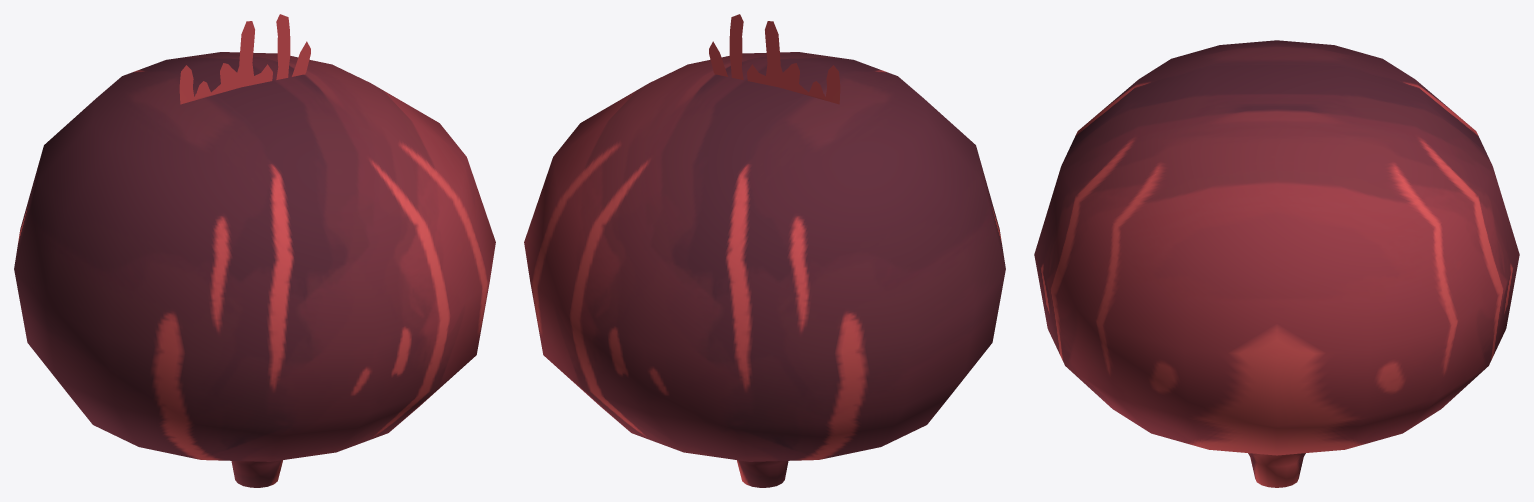
File: Bawang_Full.fbx
3 views of the same model, side by side, from view 1: azimuth 30°, elevation 25°; view 2: azimuth 150°, elevation 25°; view 3: azimuth 270°, elevation 25° (orthographic).
Visible parts, largest first — view 1: Plane.010; view 2: Plane.010; view 3: Plane.010.
Boxes of the visible parts, x1,y1,x2,y2 form: Plane.010: [14, 14, 495, 487]; Plane.010: [524, 14, 1005, 487]; Plane.010: [1034, 40, 1519, 487].
Size of the model in its own units: 15.91 by 15.91 by 16.76.
Materials: 1 (1 with a texture image).
